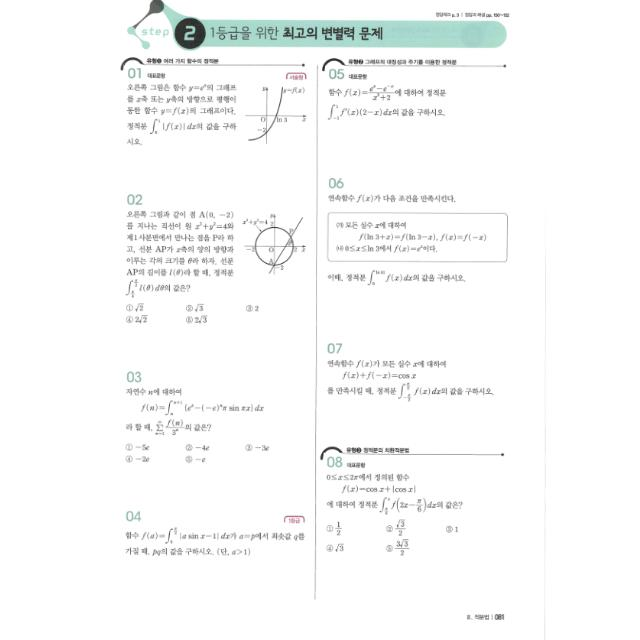multiple: (116, 185, 310, 329), (318, 438, 514, 562), (119, 364, 311, 471)
short: (322, 174, 512, 288), (113, 51, 311, 153), (320, 335, 514, 409), (320, 53, 512, 124), (117, 502, 310, 564)
